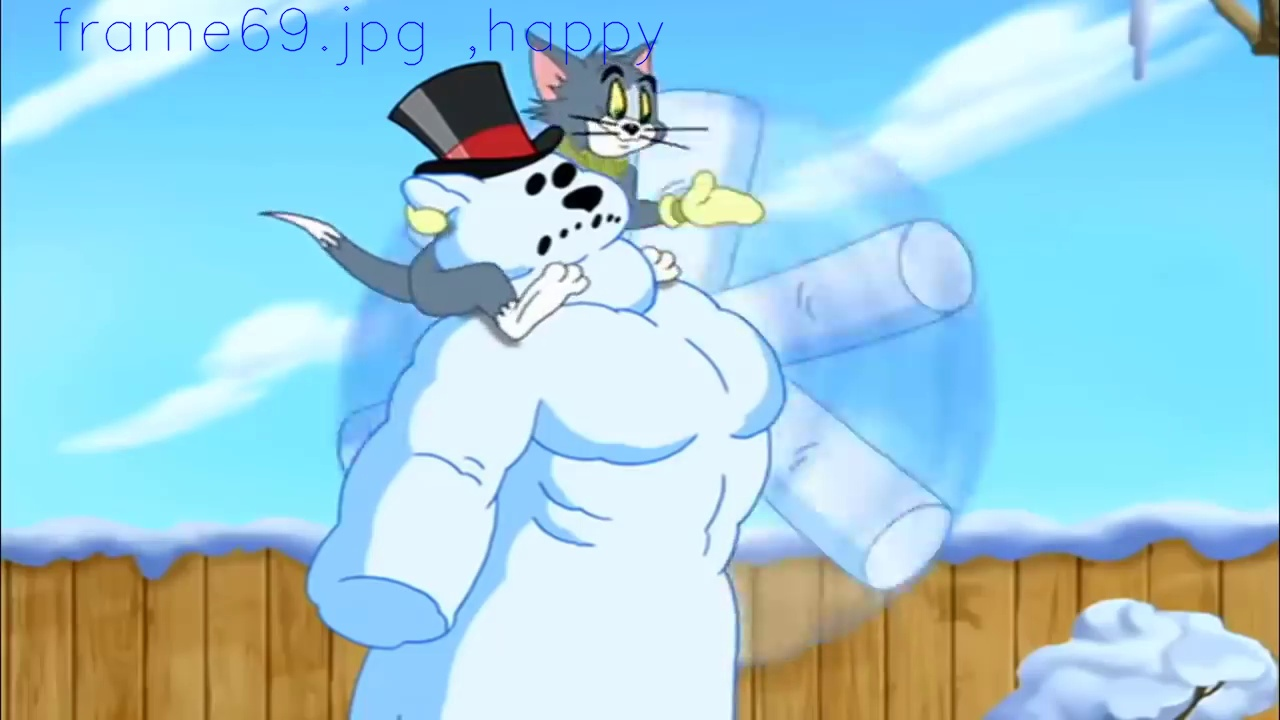happy: (597, 63, 657, 158)
